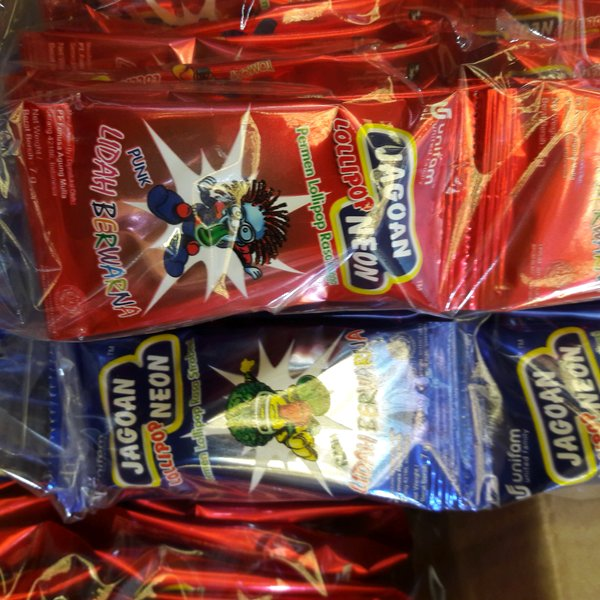jagoan_neon: (14, 87, 471, 312), (50, 314, 453, 518), (453, 297, 600, 512)
